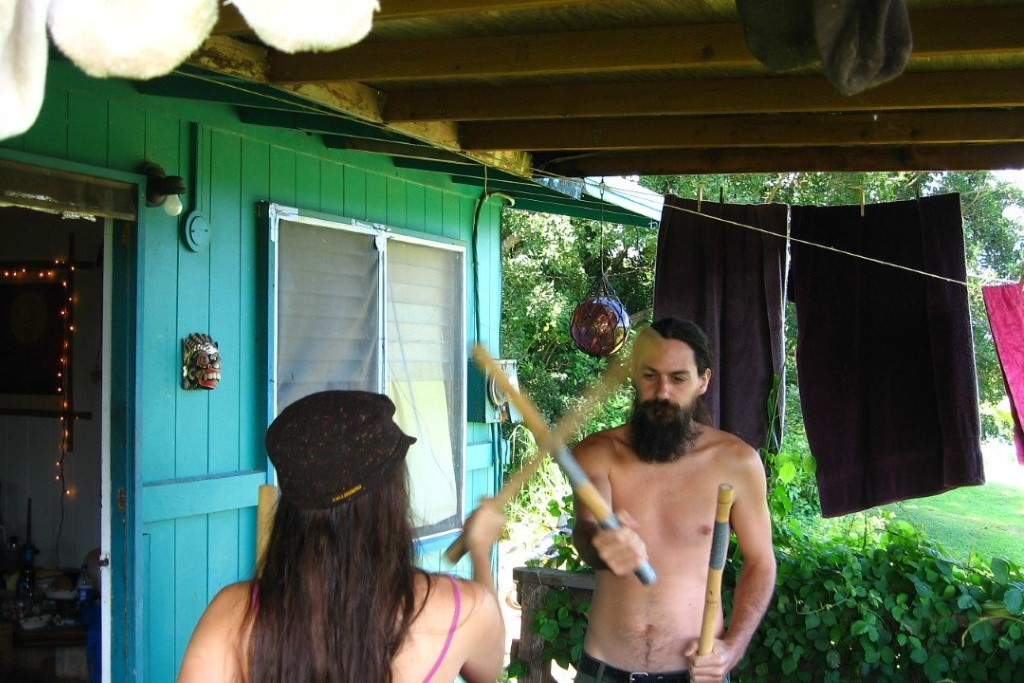baston_e: (458, 332, 641, 559), (470, 356, 648, 566), (697, 496, 735, 652)
baston_v: (638, 321, 670, 358), (633, 564, 666, 589), (440, 543, 465, 572), (714, 482, 738, 500), (467, 336, 484, 357)
